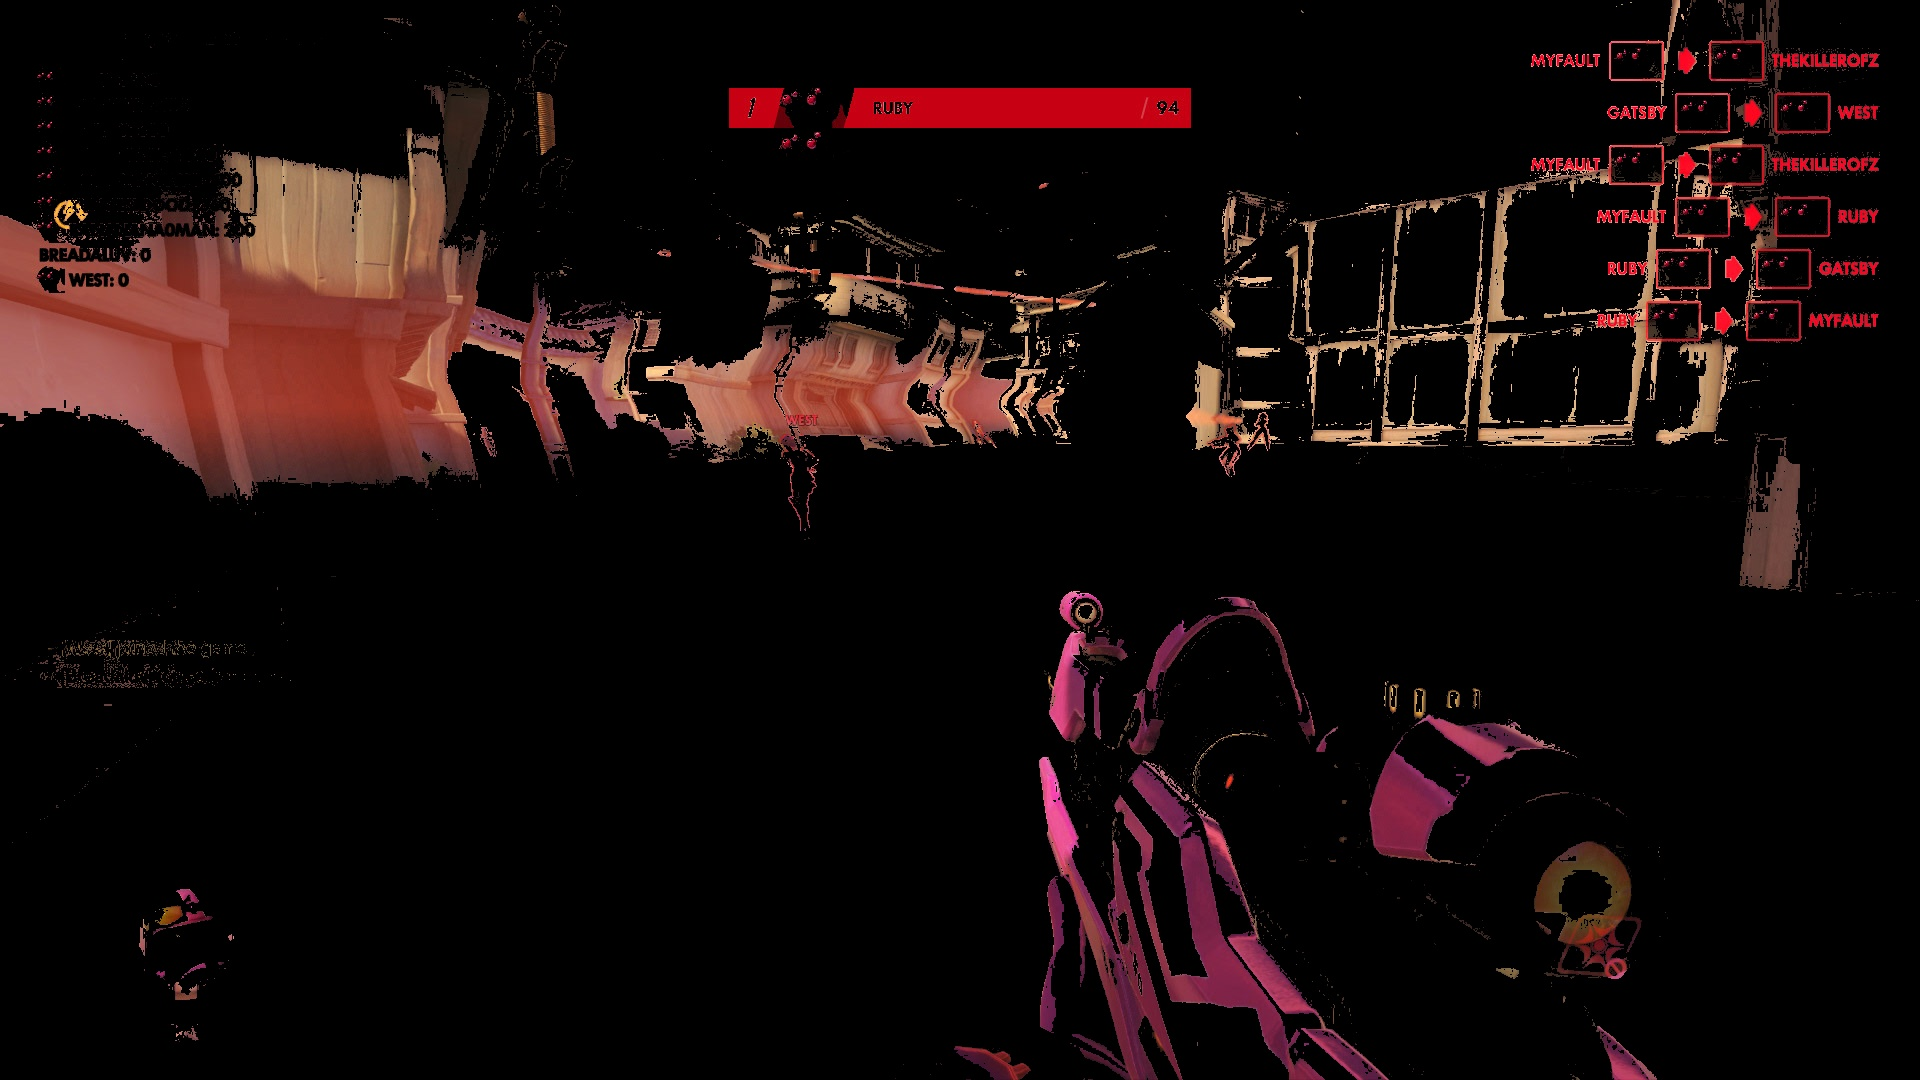widowmaker: (774, 431, 831, 546), (1207, 419, 1245, 481), (1240, 407, 1275, 460), (967, 417, 998, 454)
